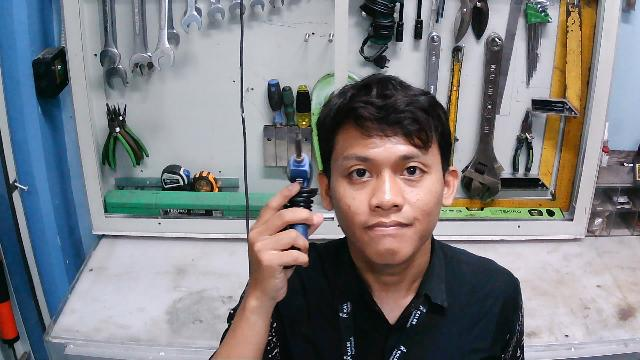solder_electrical: (280, 129, 319, 272)
